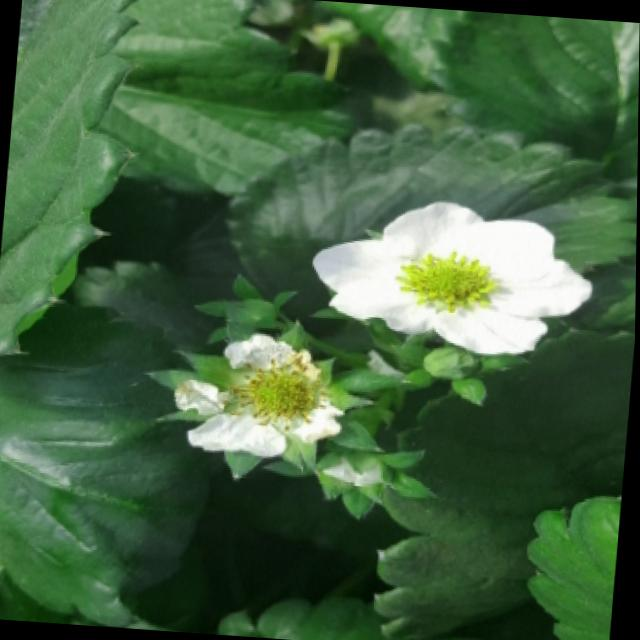Blossom Blight: (229, 344, 331, 436)
